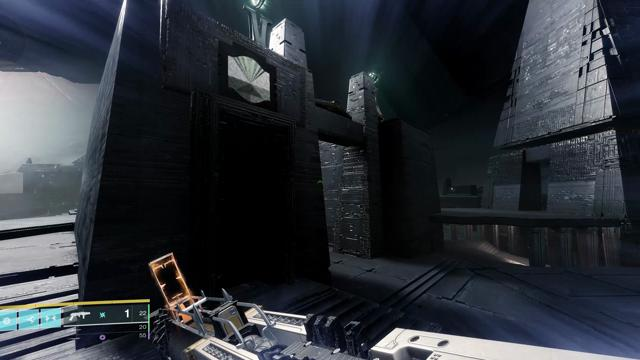commune: (228, 55, 270, 103)
